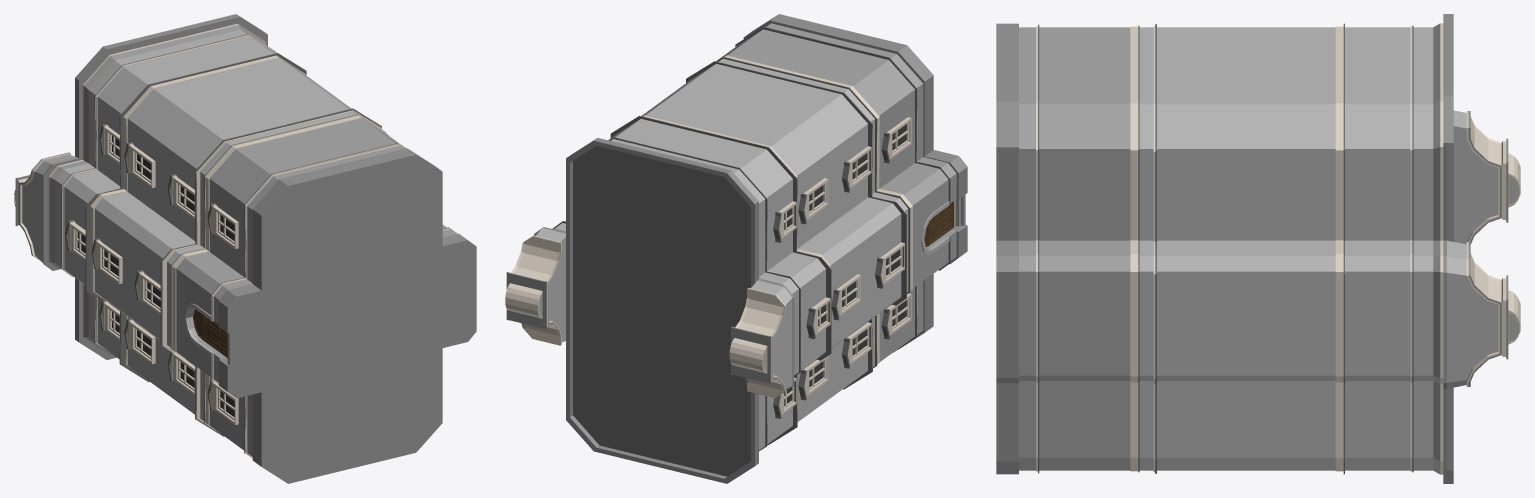
File: building3_right.glb
3 renders of one model, left to right at view 1: azimuth 30°, elevation 25°; view 2: azimuth 150°, elevation 25°; view 3: azimuth 270°, elevation 25°, orthographic. The views are drawn at different scales.
Parts seen in each view (by area): view 1: Building4; view 2: Building4; view 3: Building4.
Part boxes in pixels (left/top/right/bottom): Building4: left=14, top=14, right=476, bottom=483; Building4: left=505, top=14, right=967, bottom=483; Building4: left=996, top=14, right=1520, bottom=483.
Bounding box in the file's own units: 8 × 9 × 11.
